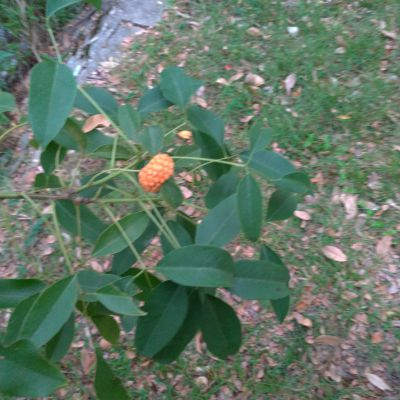eggs: (134, 151, 179, 191)
